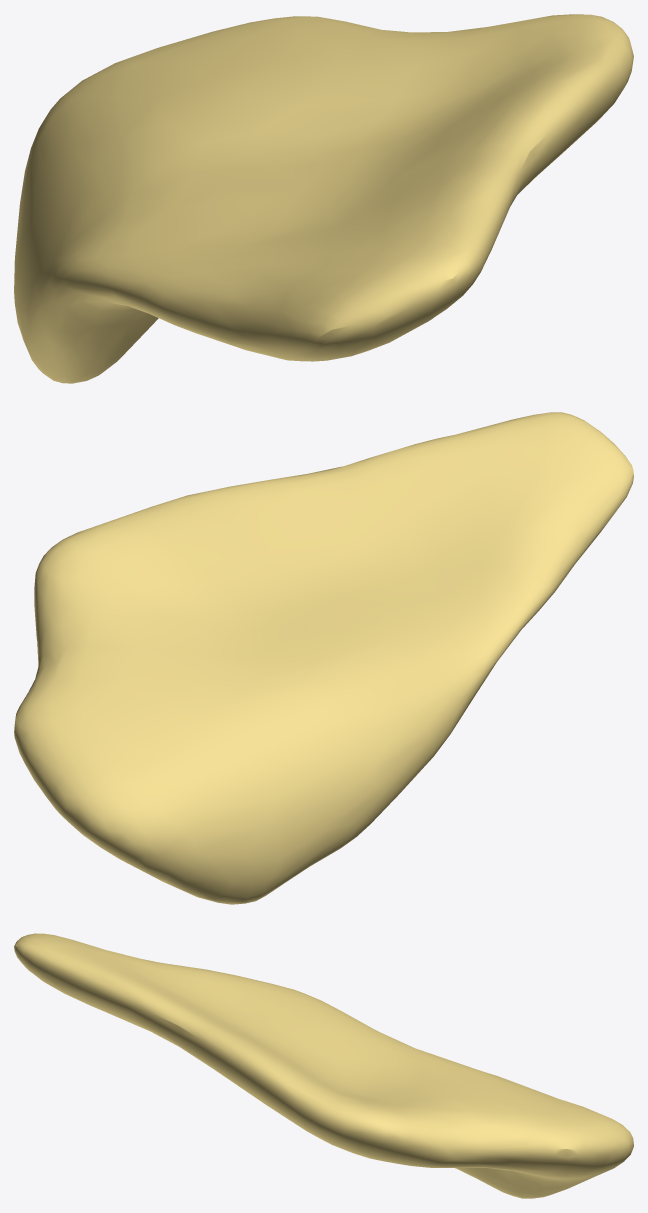
File: fma73374_mm2953.glb
3 renders of one model, top to bottom at view 1: azimuth 30°, elevation 25°; view 2: azimuth 150°, elevation 25°; view 3: azimuth 270°, elevation 25°, orthographic. The views are drawn at different scales.
Visible parts, largest first — view 1: FMA73374_MM2953; view 2: FMA73374_MM2953; view 3: FMA73374_MM2953.
Part boxes in pixels (left/top/right/bottom): FMA73374_MM2953: left=14, top=14, right=633, bottom=383; FMA73374_MM2953: left=14, top=412, right=633, bottom=904; FMA73374_MM2953: left=14, top=933, right=633, bottom=1198.
Size of the model in its own units: 0.0114 by 0.00765 by 0.0178.
